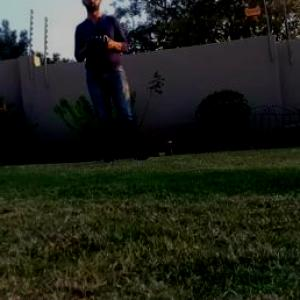follow: (71, 0, 155, 169)
